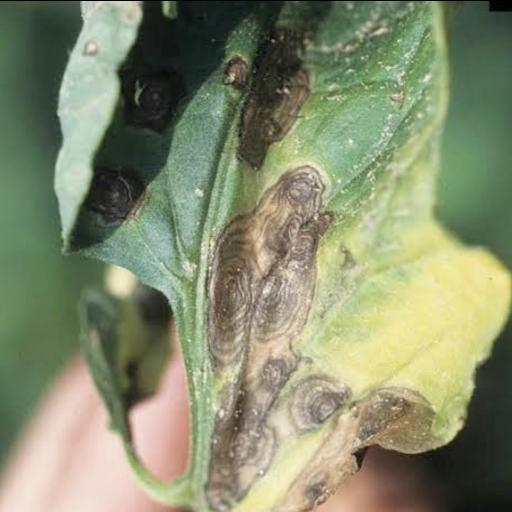disease_tomato: (51, 0, 512, 512)
